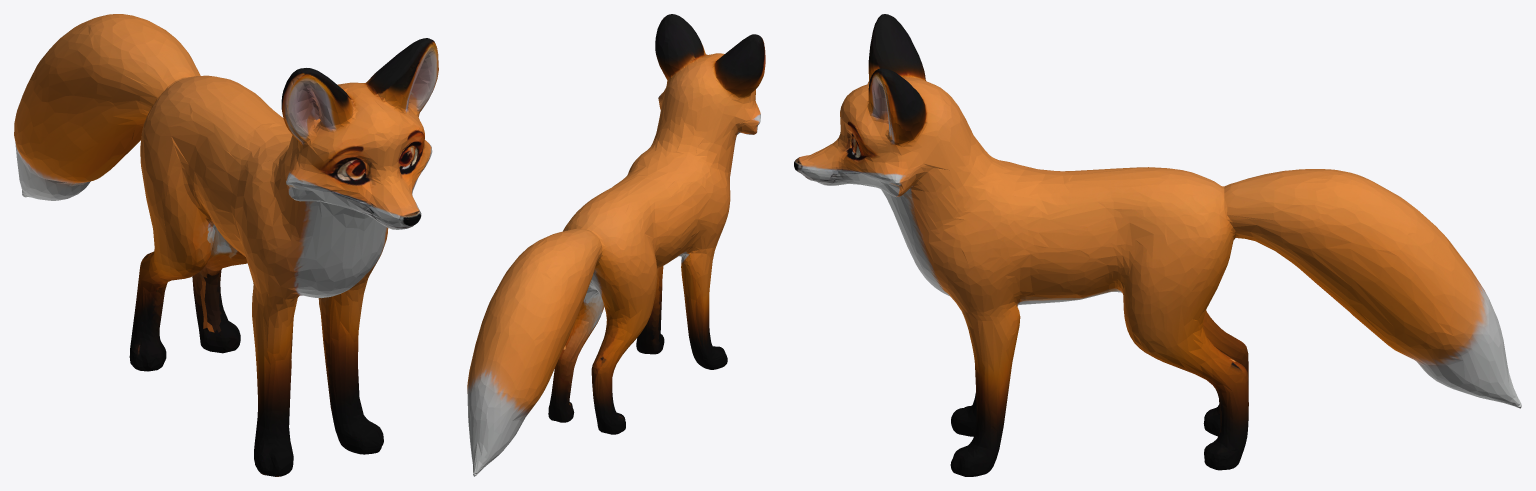
The model's file is w_fox.glb.
The picture shows the model from 3 angles, left to right: view 1: azimuth 30°, elevation 25°; view 2: azimuth 150°, elevation 25°; view 3: azimuth 270°, elevation 25°; orthographic projection. The views are drawn at different scales.
Visible parts, largest first — view 1: textured_mesh.obj; view 2: textured_mesh.obj; view 3: textured_mesh.obj.
Part boxes in pixels (box(x1,y1,x2,y2)): textured_mesh.obj: box(14, 14, 438, 476); textured_mesh.obj: box(467, 14, 765, 476); textured_mesh.obj: box(794, 14, 1521, 476).
Size of the model in its own units: 0.4531 by 1.23 by 1.99.
Materials: 1 (1 with a texture image).
